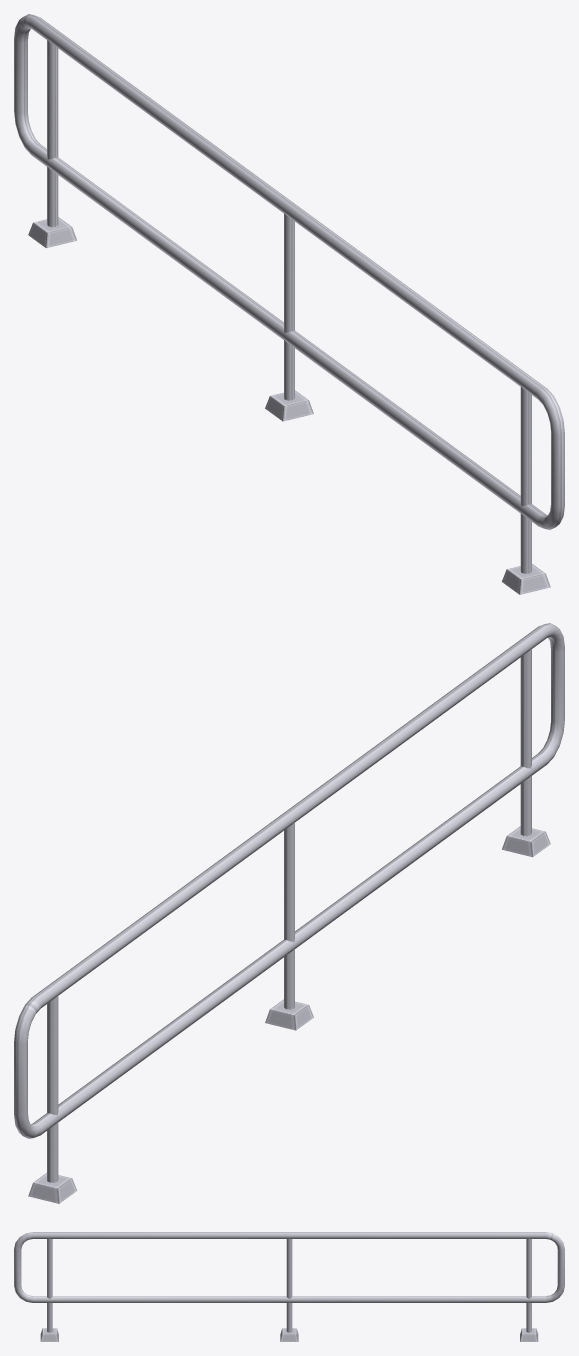
The model's file is Fence_Short_Line_01.FBX.
The picture shows the model from 3 angles, top to bottom: view 1: azimuth 30°, elevation 25°; view 2: azimuth 150°, elevation 25°; view 3: azimuth 270°, elevation 25°; orthographic projection. The views are drawn at different scales.
Visible parts, largest first — view 1: Fence_Short_Line_01; view 2: Fence_Short_Line_01; view 3: Fence_Short_Line_01.
Boxes of the visible parts, <box> form: Fence_Short_Line_01: <box>14,14,564,594</box>; Fence_Short_Line_01: <box>14,623,564,1203</box>; Fence_Short_Line_01: <box>14,1232,564,1341</box>.
Size of the model in its own units: 0.175 by 1.12 by 5.3.
Materials: 1 (1 with a texture image).
